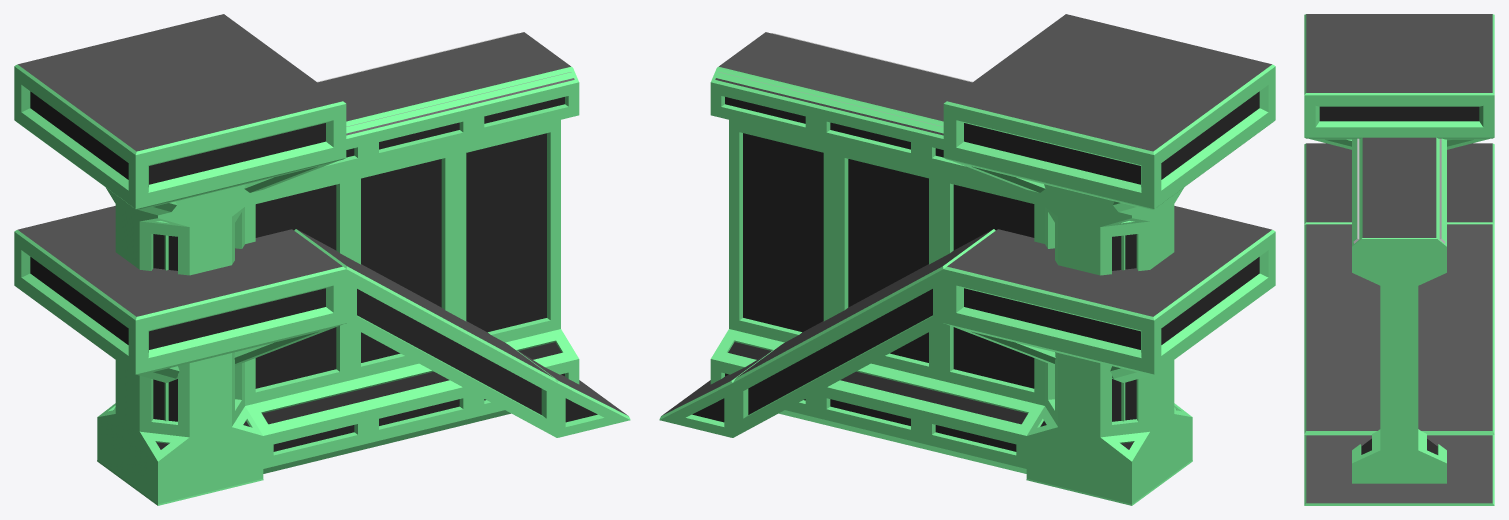
File: Building.fbx
The picture shows the model from 3 angles, left to right: view 1: azimuth 30°, elevation 25°; view 2: azimuth 150°, elevation 25°; view 3: azimuth 270°, elevation 25°; orthographic projection. The views are drawn at different scales.
Visible parts, largest first — view 1: Empty_Mesh_6, Empty_Mesh_1, Empty_Mesh_2, Empty_Mesh_5, Empty_Mesh, Empty_Mesh_3, Empty_Mesh_4; view 2: Empty_Mesh_6, Empty_Mesh_1, Empty_Mesh_2, Empty_Mesh_5, Empty_Mesh, Empty_Mesh_3, Empty_Mesh_4; view 3: Empty_Mesh_3, Empty_Mesh_6, Empty_Mesh_1, Empty_Mesh_4, Empty_Mesh_2, Empty_Mesh.
Boxes of the visible parts, <box> form: Empty_Mesh_6: <box>245,32,579,473</box>; Empty_Mesh_1: <box>14,14,346,209</box>; Empty_Mesh_2: <box>14,206,346,419</box>; Empty_Mesh_5: <box>97,184,263,504</box>; Empty_Mesh: <box>14,66,346,505</box>; Empty_Mesh_3: <box>294,229,556,437</box>; Empty_Mesh_4: <box>516,350,630,437</box>; Empty_Mesh_6: <box>710,32,1044,473</box>; Empty_Mesh_1: <box>943,14,1275,209</box>; Empty_Mesh_2: <box>943,206,1275,421</box>; Empty_Mesh_5: <box>1026,184,1192,504</box>; Empty_Mesh: <box>943,66,1275,505</box>; Empty_Mesh_3: <box>733,229,995,437</box>; Empty_Mesh_4: <box>659,350,773,437</box>; Empty_Mesh_3: <box>1304,224,1494,434</box>; Empty_Mesh_6: <box>1352,137,1446,483</box>; Empty_Mesh_1: <box>1304,14,1494,138</box>; Empty_Mesh_4: <box>1304,434,1494,505</box>; Empty_Mesh_2: <box>1304,143,1494,224</box>; Empty_Mesh: <box>1309,105,1489,149</box>.
Bounding box in the file's own units: 470 × 352 × 200.
